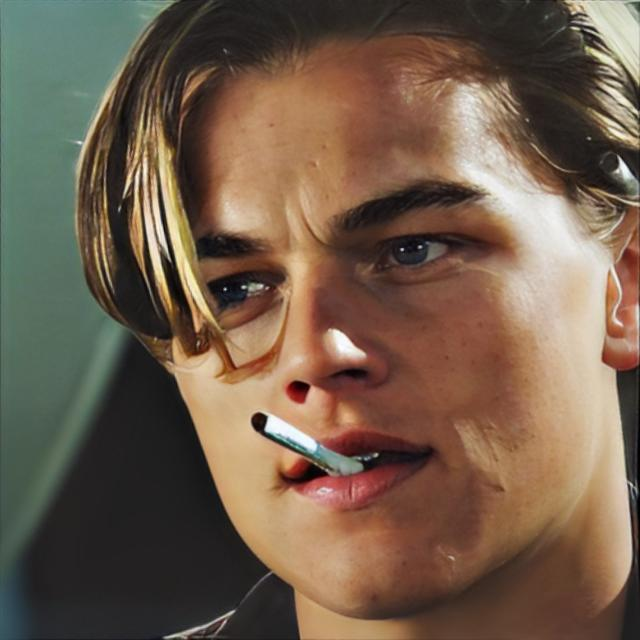anger: (170, 39, 612, 606)
